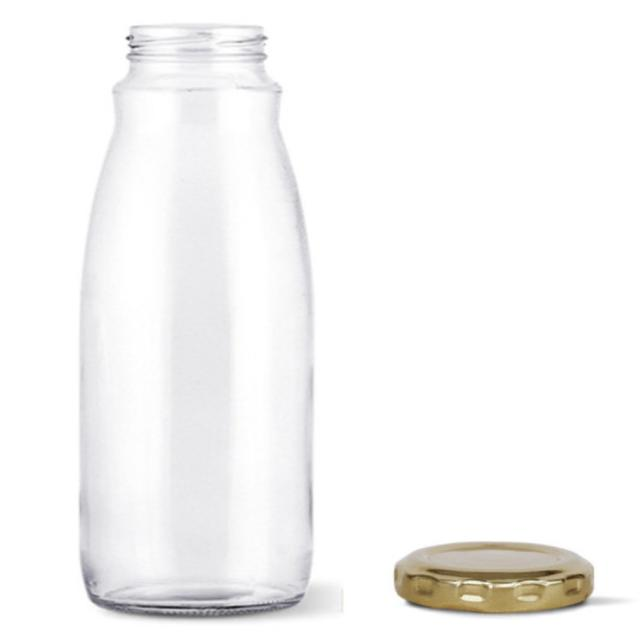recyclable: (39, 4, 365, 620)
